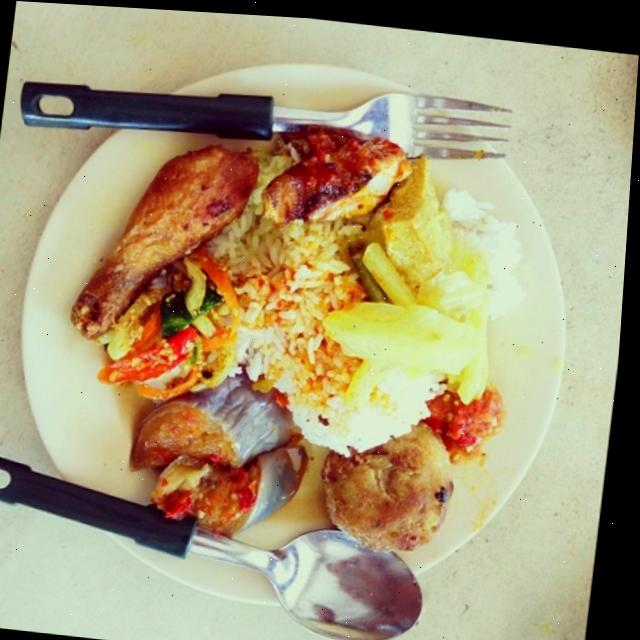米饭主食: (3, 57, 575, 610)
